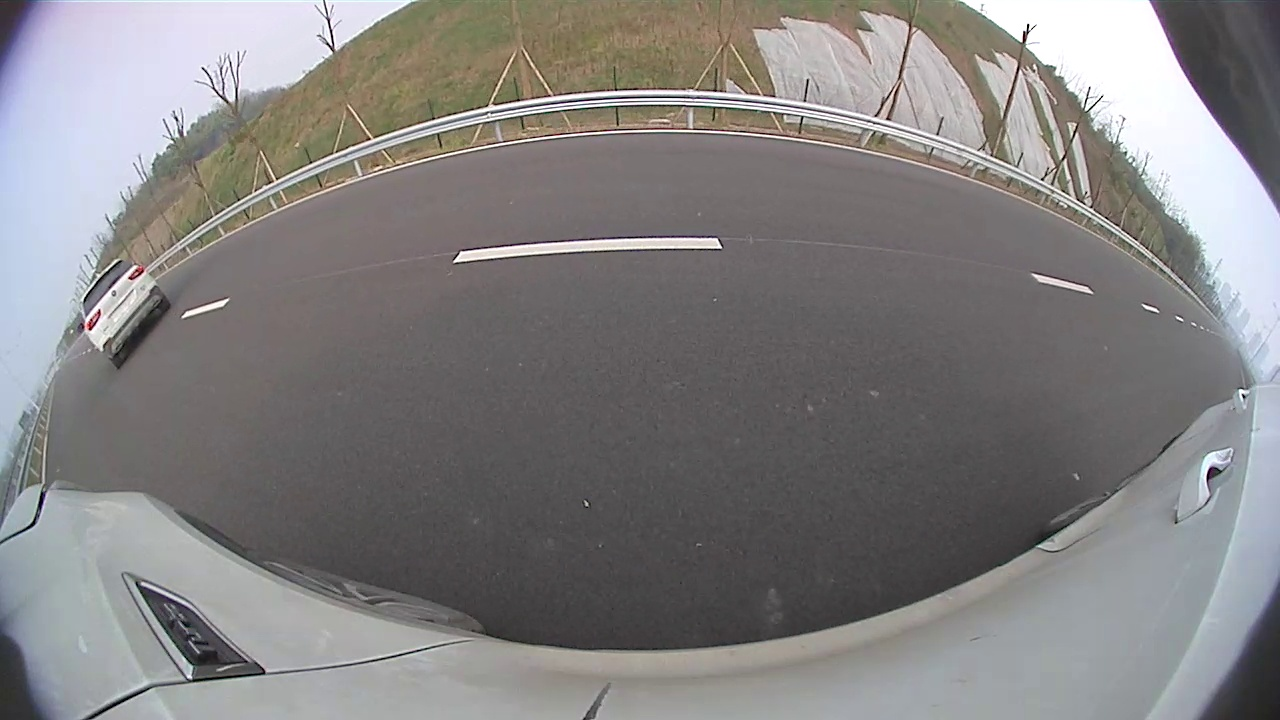car: (512, 119, 638, 219)
rear: (619, 175, 630, 213)
